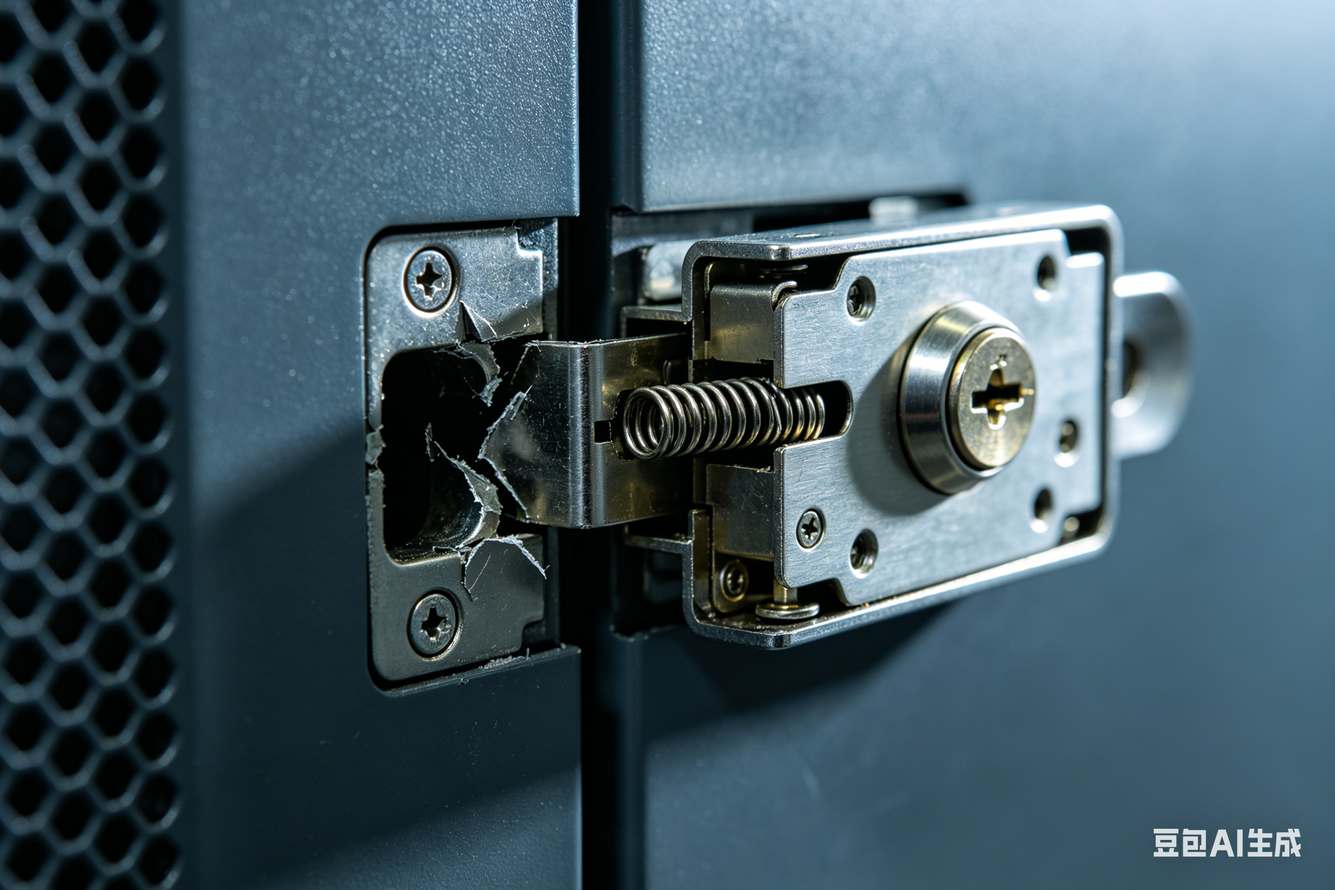BadLock: (369, 342, 784, 537)
